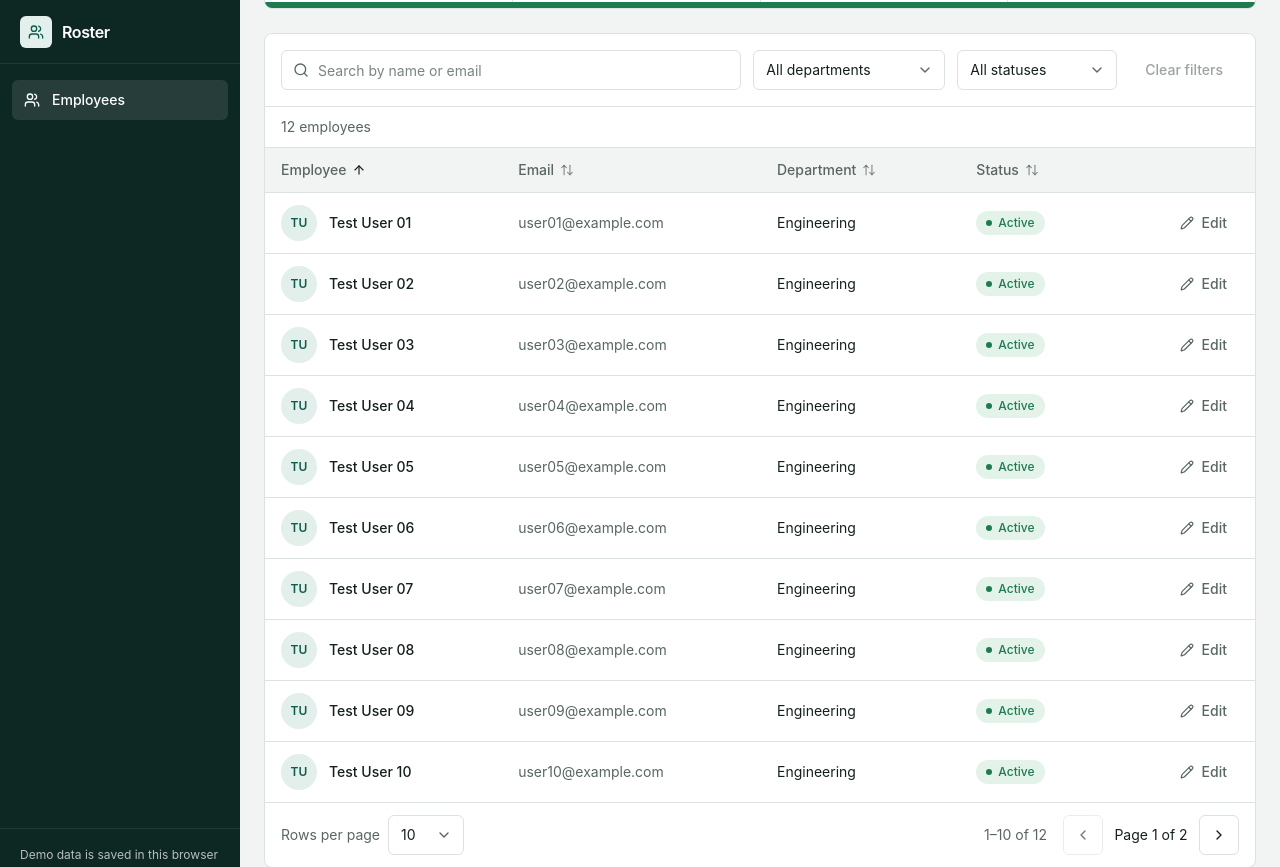
Scenario: EmployeesPage: sorting and pagination › changes the page size
(page scrolled)
Expected: the text "Test User 01" is shown, x1=329 y1=213 x2=411 y2=233
Select "20" in the dropdown labelled "Rows per page" at (426, 835), box x1=388 y1=815 x2=464 y2=855
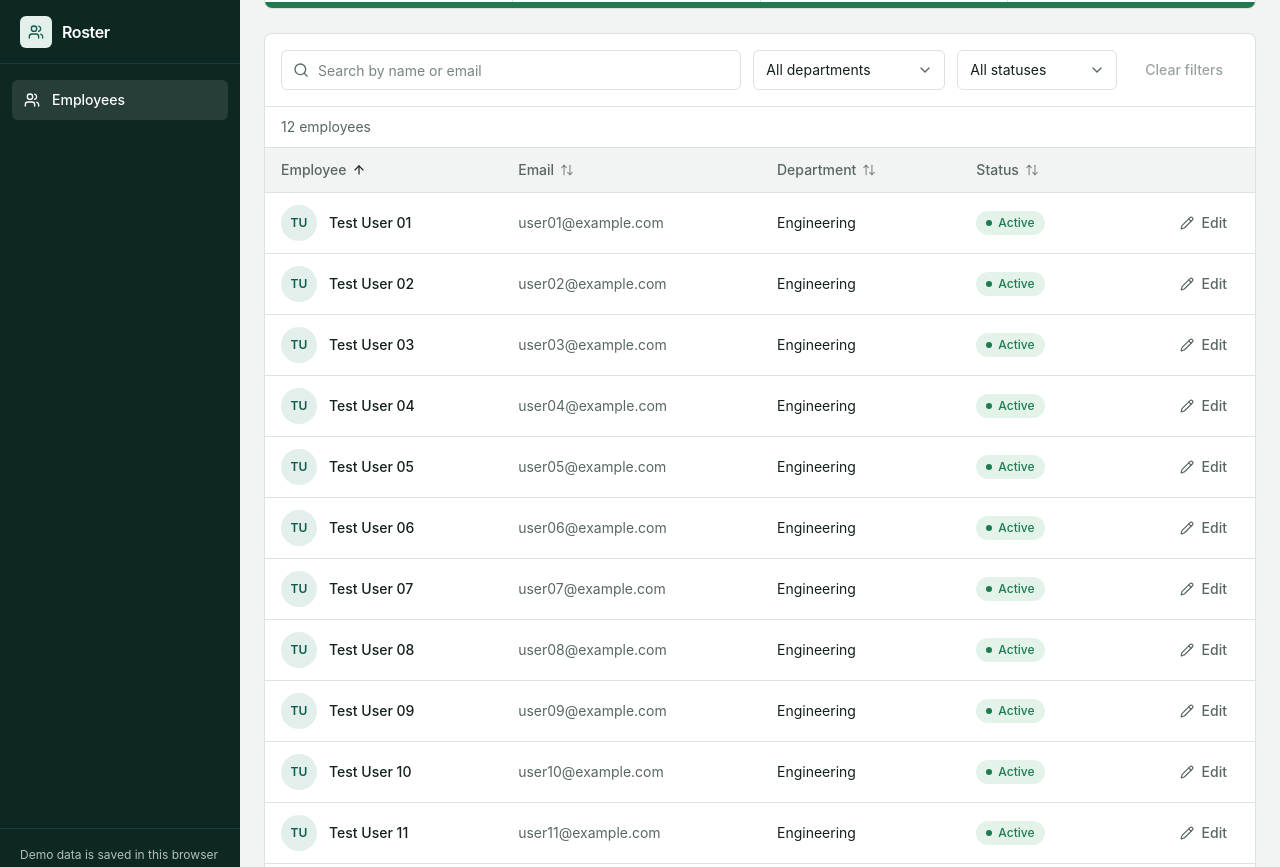
Now the text "Page 1 of 2" is gone
